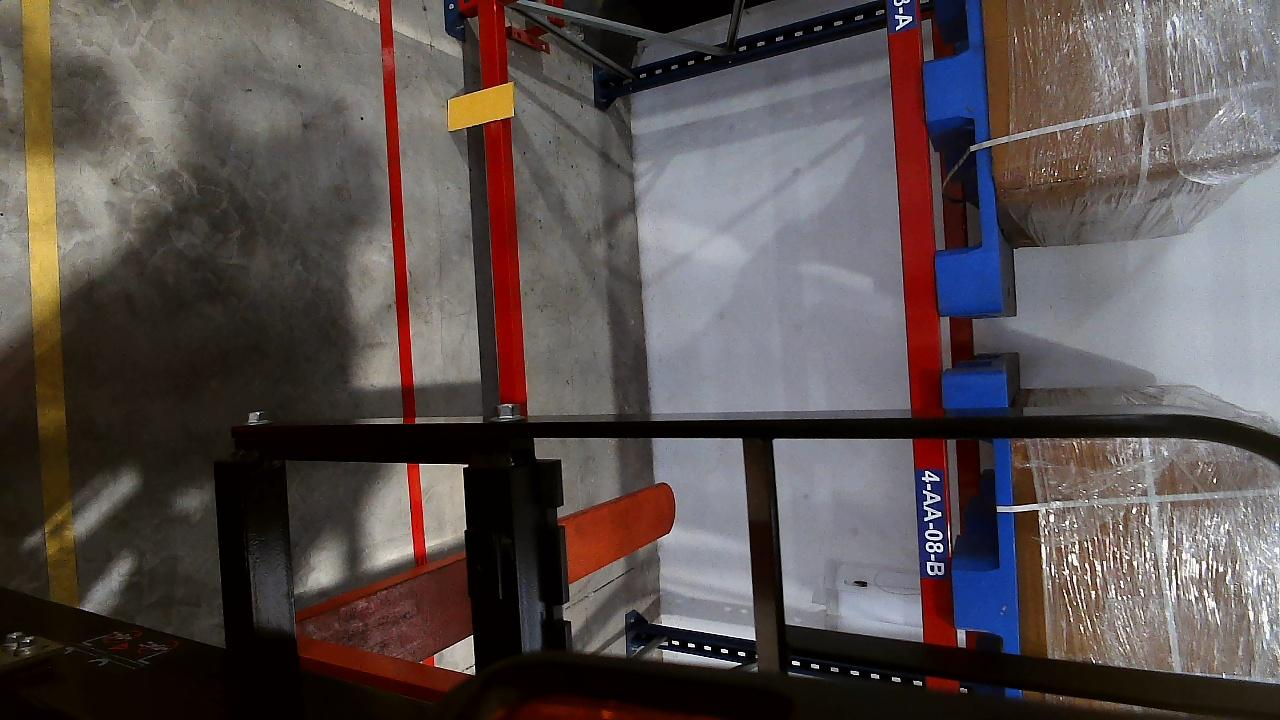h_rack: (881, 0, 948, 438), (472, 4, 524, 405)
orange_strip: (445, 83, 515, 130)
red_line: (378, 0, 416, 398)
small_pallet: (916, 0, 1007, 309), (943, 441, 1023, 652)
yellow_line: (17, 0, 75, 603)
